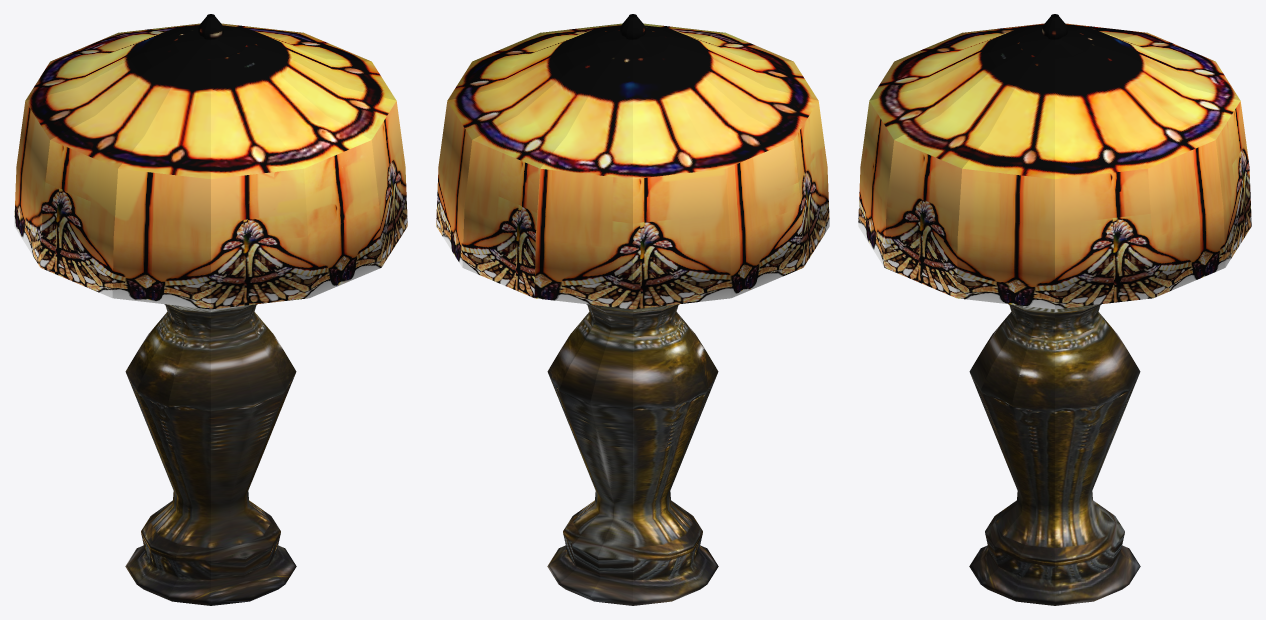
The model's file is PAST_TableLamp2_lit.fbx.
The picture shows the model from 3 angles, left to right: view 1: azimuth 30°, elevation 25°; view 2: azimuth 150°, elevation 25°; view 3: azimuth 270°, elevation 25°; orthographic projection.
Parts seen in each view (by area): view 1: Table_Lamp_3; view 2: Table_Lamp_3; view 3: Table_Lamp_3.
Boxes of the visible parts, <box> form: Table_Lamp_3: <box>14,14,407,605</box>; Table_Lamp_3: <box>436,14,829,605</box>; Table_Lamp_3: <box>858,14,1251,605</box>.
Size of the model in its own units: 2.32 by 3.62 by 2.32.
Materials: 1 (1 with a texture image).
